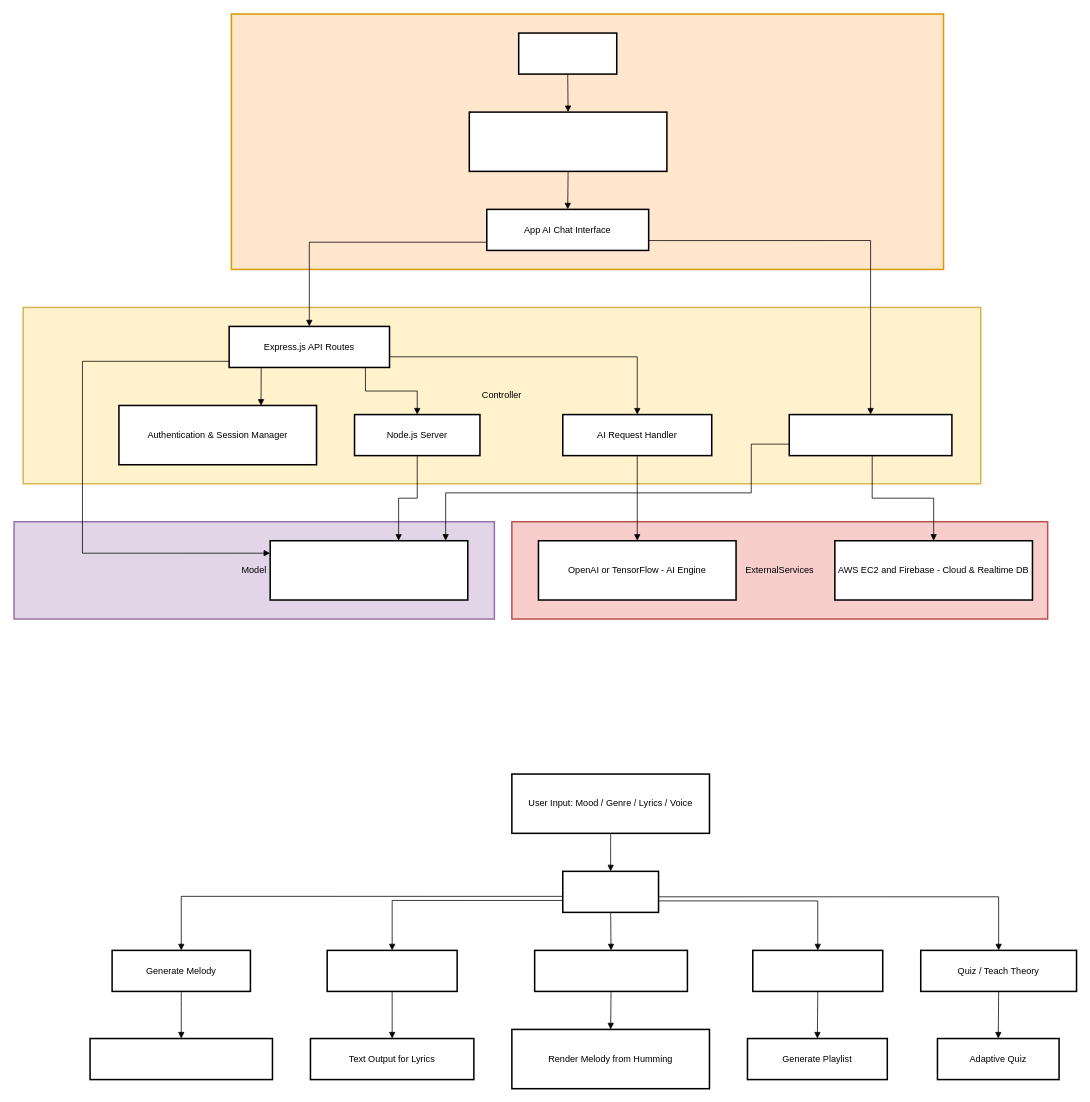
The diagram is 1090 pixels wide and 1102 high, and some of its shapes have lost their labels. Here are the shapes that lost their labels. From the top down, the centre of each, then its label:
(x=567, y=53): Flutter UI
(x=567, y=141): User Inputs: Genre, Mood, Lyrics, Voice
(x=870, y=434): Firebase Sync Service
(x=368, y=570): MongoDB - Users, Projects, Tracks, Messages
(x=610, y=891): AI Engine
(x=392, y=970): Generate Lyrics
(x=611, y=970): Analyze Voice Input
(x=817, y=970): Suggest Playlist
(x=181, y=1058): Display Notes & Playback
